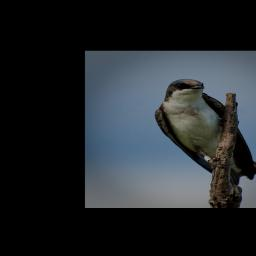Swallow: (154, 79, 256, 186)
